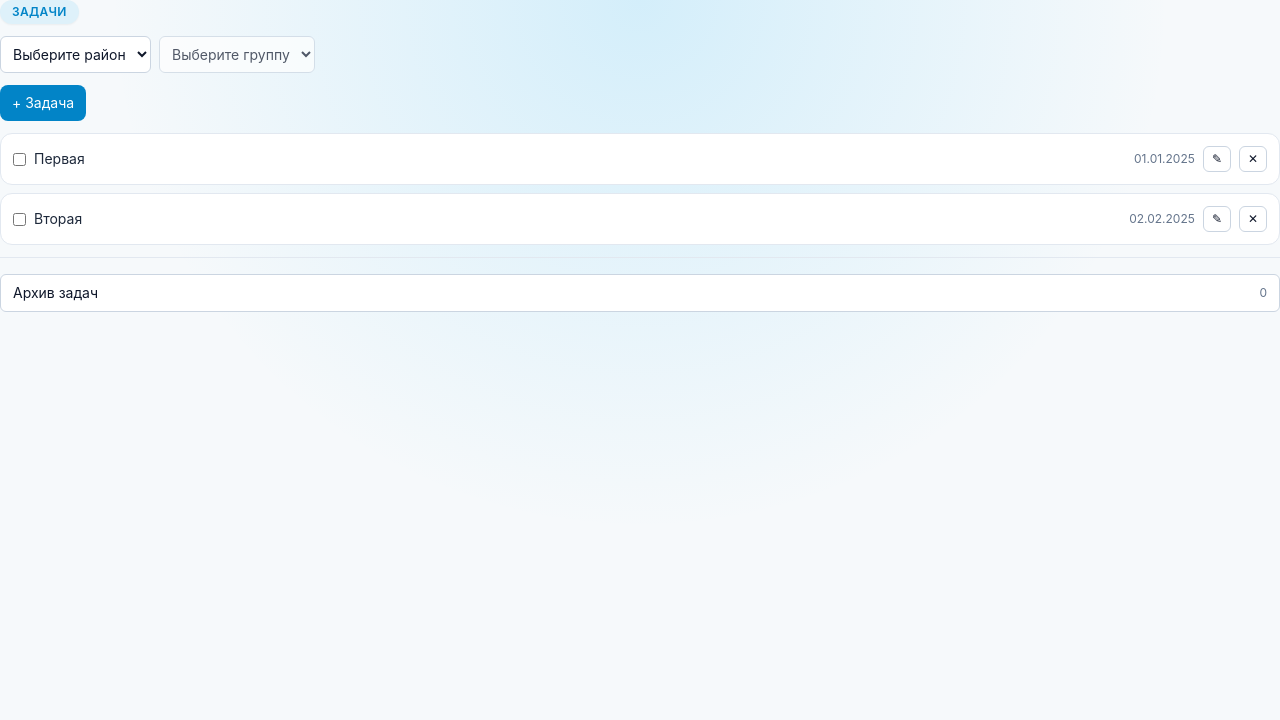
Test case: TasksTab CRUD operations › Task item click opens modal
Click the text "Первая".
click(59, 159)  # box [34,149,85,169]
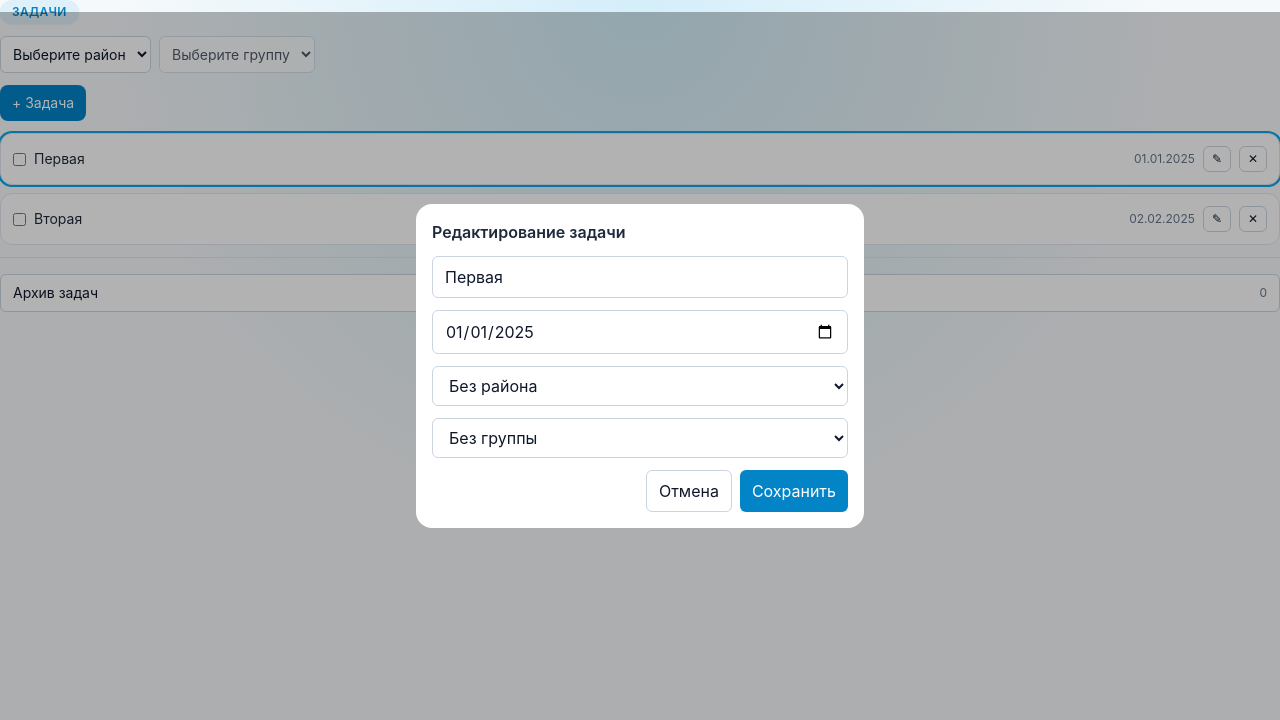
Now the text "Редактирование задачи" is shown, box [432,222,626,242]
